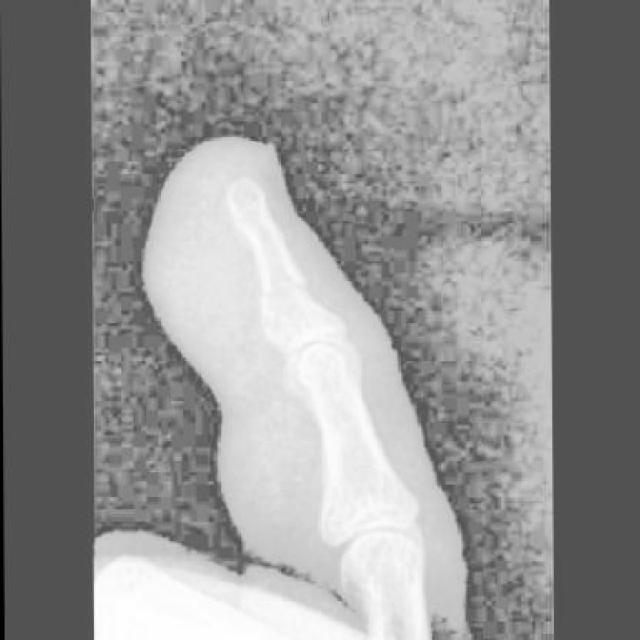Fracture: (259, 269, 315, 303)
